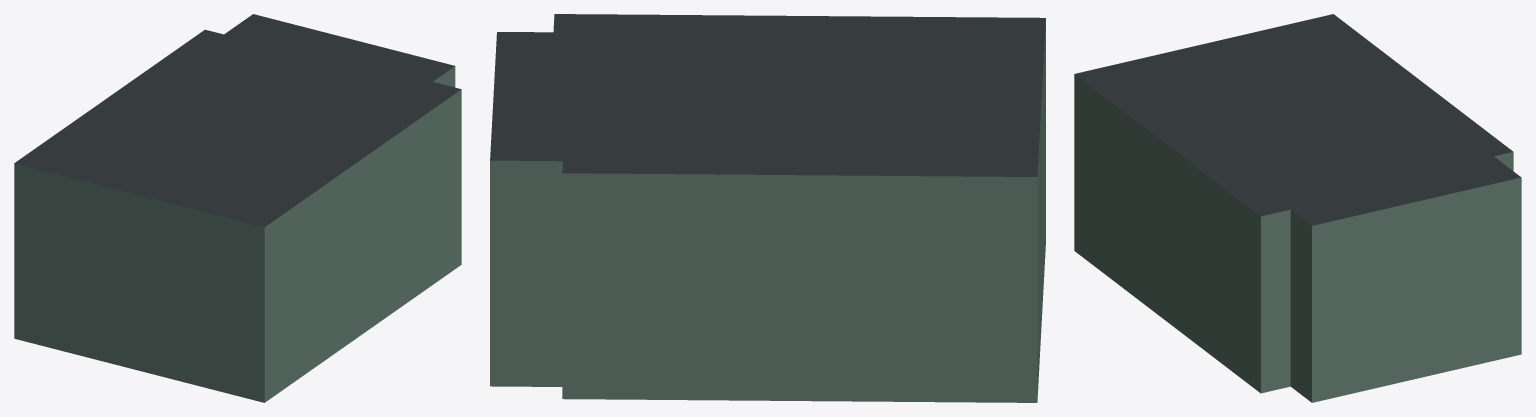
The model's file is nyc-1089022-0.glb.
3 renders of one model, left to right at view 1: azimuth 30°, elevation 25°; view 2: azimuth 150°, elevation 25°; view 3: azimuth 270°, elevation 25°, orthographic. The views are drawn at different scales.
Visible parts, largest first — view 1: nyc-1089022-0; view 2: nyc-1089022-0; view 3: nyc-1089022-0.
Part boxes in pixels (<box>): nyc-1089022-0: <box>14,14,461,402</box>; nyc-1089022-0: <box>490,14,1045,402</box>; nyc-1089022-0: <box>1074,14,1521,402</box>.
Size of the model in its own units: 15.66 by 6.1 by 13.96.
